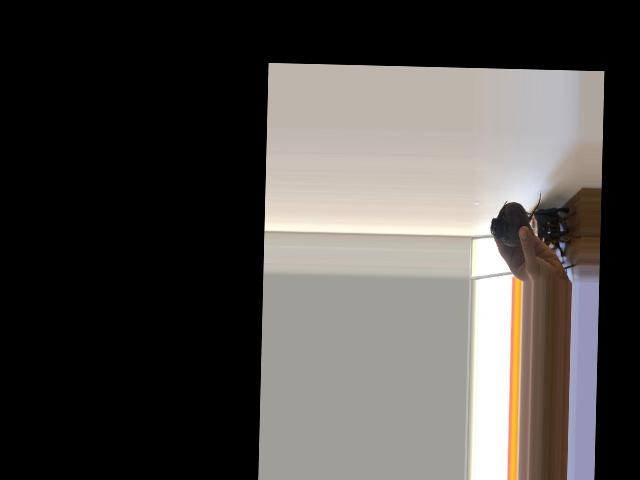beet: (490, 189, 541, 246)
